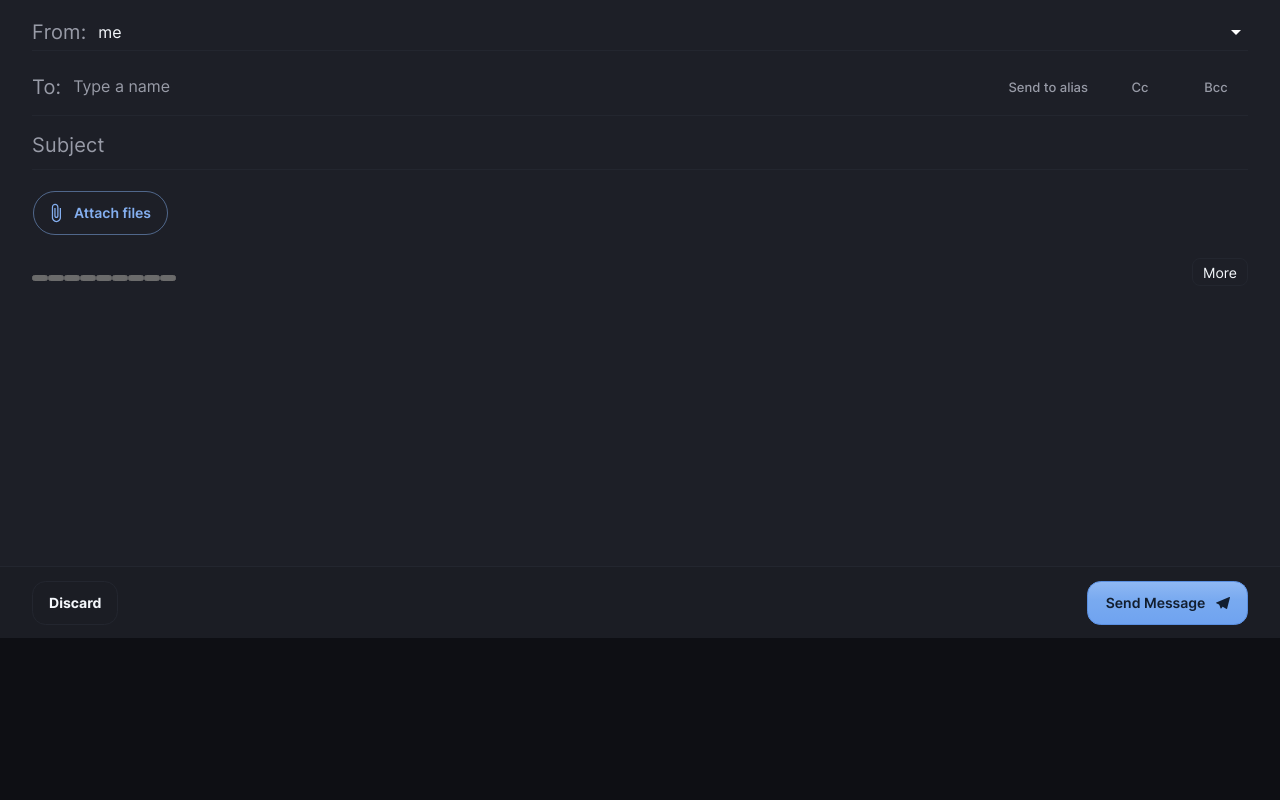
NewMessage and joined groups › with group threads hidden: no group suggestions, and a typed group name is just a name
Type "Build" into the dropdown with placeholder "Type a name". click: (531, 87)
box: [73,71,988,102]
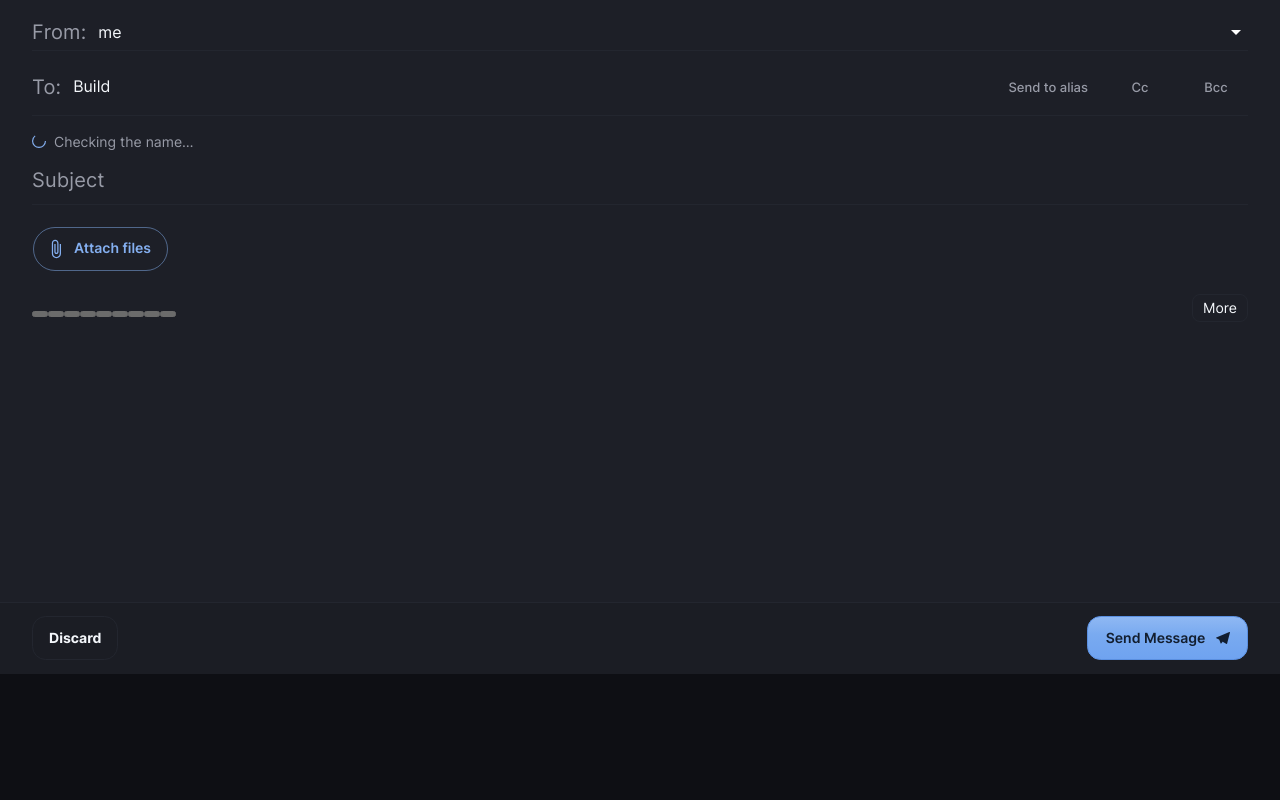
Expected: the option "Builders" is not shown
Replace the text in the dropdown with placeholder "Type a name" with "Builders". click: (516, 87)
box: [73,71,958,102]
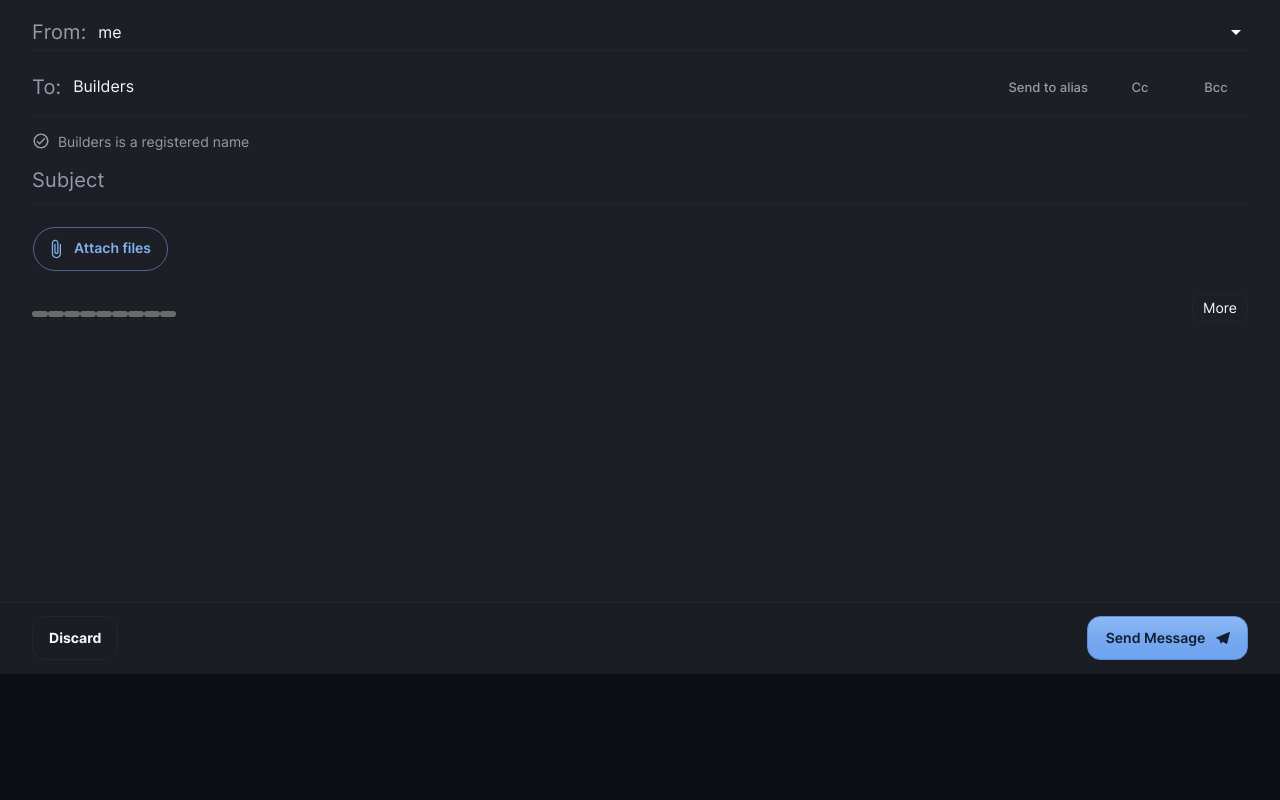
Expected: the text "Builders is a registered name" is shown, [58,131,249,152]
